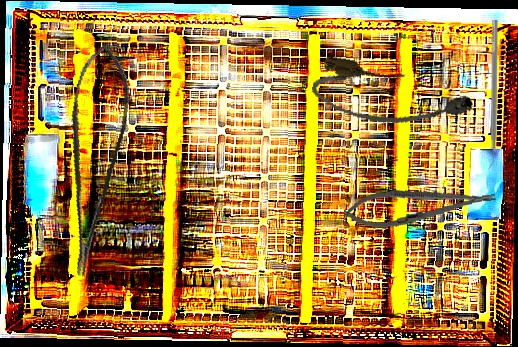Cannula: (307, 52, 478, 144)
Micro Scissor: (32, 39, 145, 279)
Needle Holder: (342, 179, 498, 233)
Spatula Surgical: (485, 20, 498, 169)
